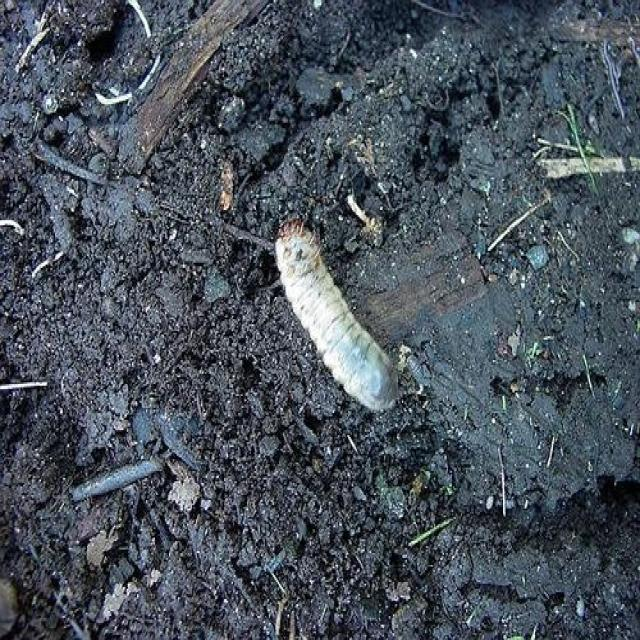grub: (277, 222, 401, 411)
